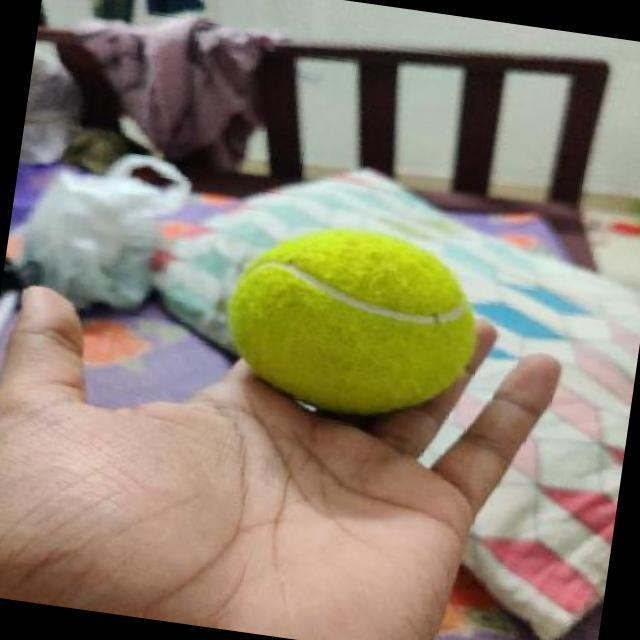-: (204, 186, 508, 438)
